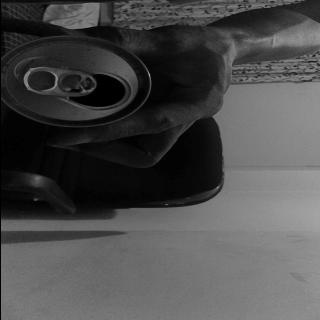alumunium_can: (0, 34, 152, 128)
